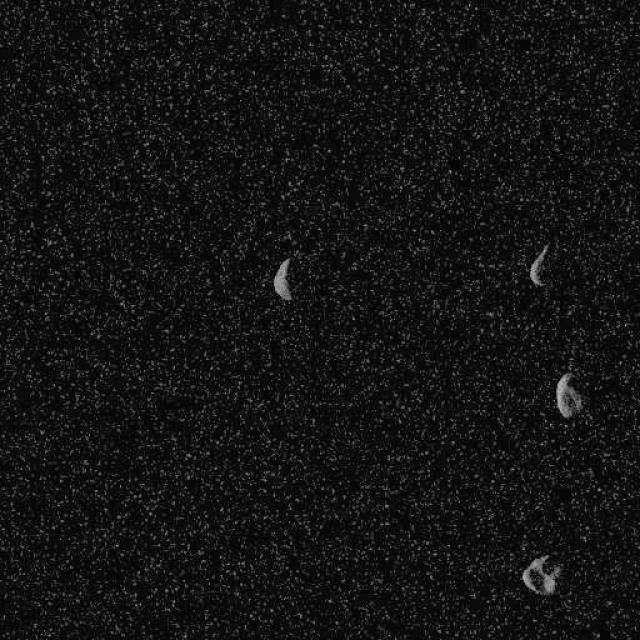D2: (522, 554, 562, 596), (555, 371, 583, 419), (271, 255, 294, 301), (528, 242, 550, 288)
